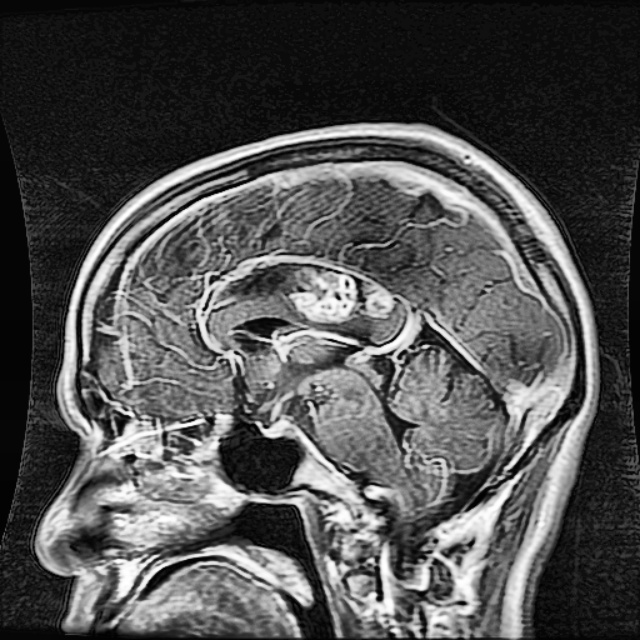Meningioma: (294, 265, 390, 318)
